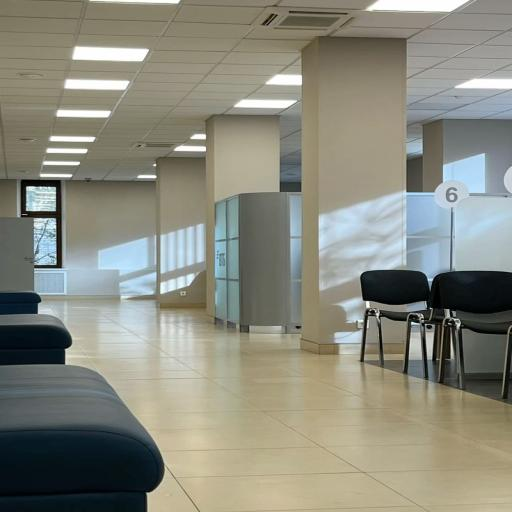bus: (439, 271, 511, 398), (360, 270, 429, 366), (403, 275, 444, 378)
sidewalk: (0, 280, 175, 511)
